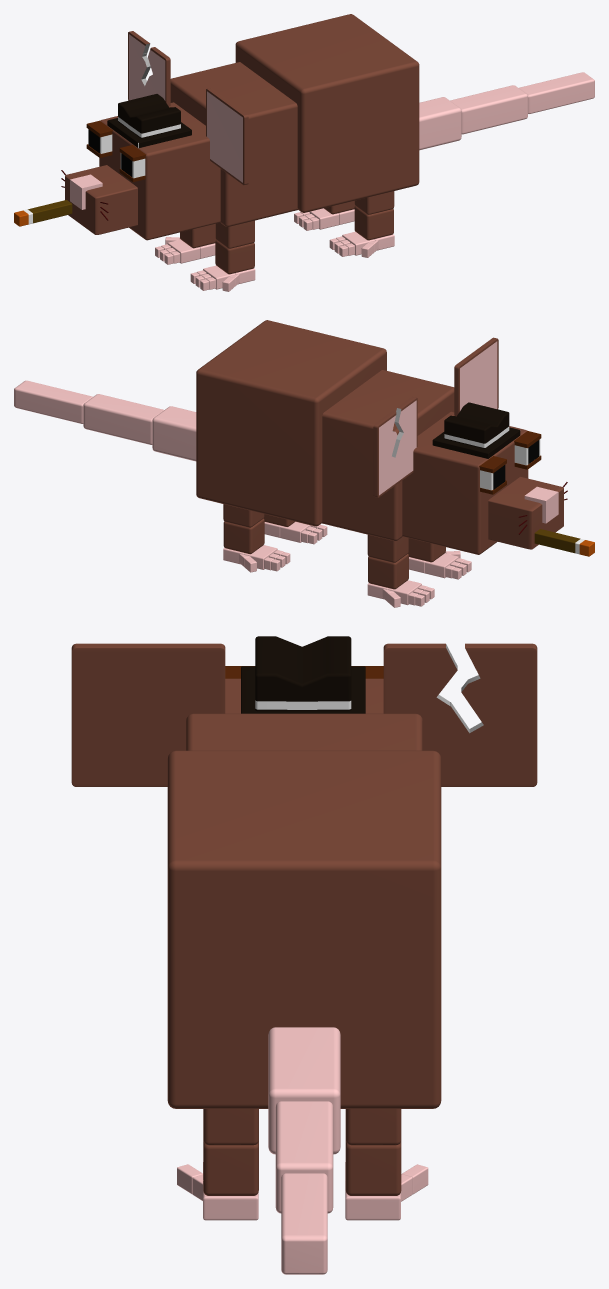
Rendered from Rat Mafia.fbx.
The picture shows the model from 3 angles, top to bottom: view 1: azimuth 30°, elevation 25°; view 2: azimuth 150°, elevation 25°; view 3: azimuth 270°, elevation 25°; orthographic projection. The views are drawn at different scales.
Visible parts, largest first — view 1: Mafia_Rat; view 2: Mafia_Rat; view 3: Mafia_Rat.
Boxes of the visible parts, left/top/right/bottom form: Mafia_Rat: left=14, top=14, right=594, bottom=291; Mafia_Rat: left=14, top=320, right=594, bottom=607; Mafia_Rat: left=71, top=636, right=537, bottom=1274.
Bounding box in the file's own units: 10.6 × 3.58 × 3.8.
